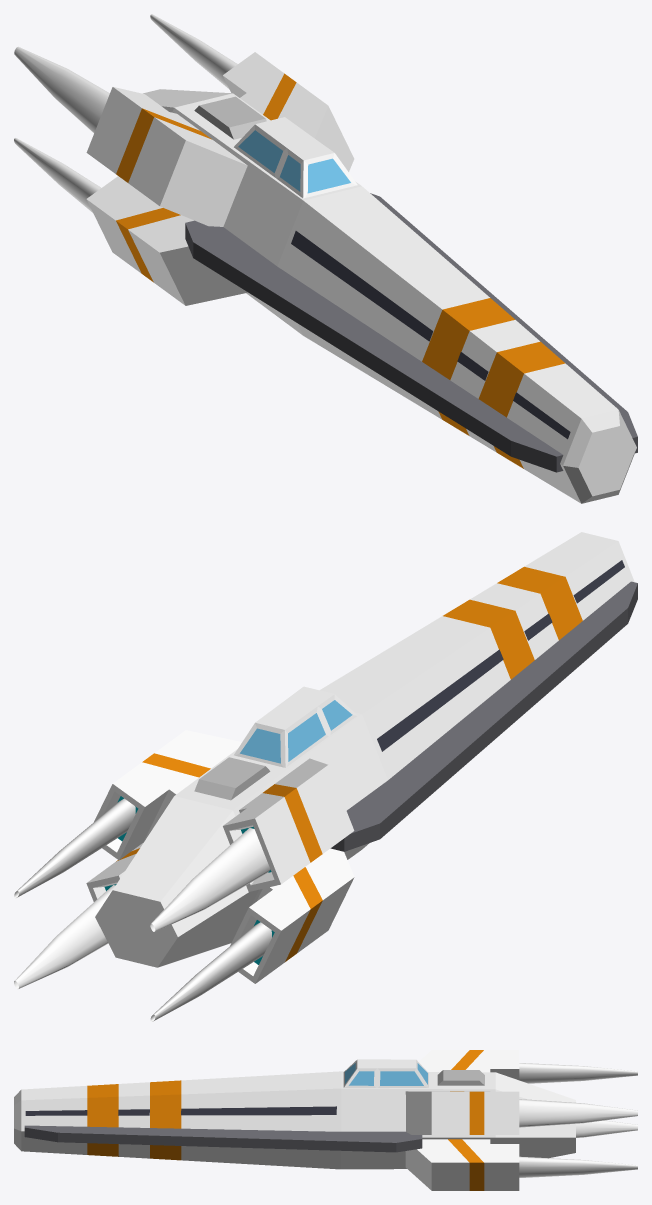
Rendered from SpaceShip.fbx.
The picture shows the model from 3 angles, top to bottom: view 1: azimuth 30°, elevation 25°; view 2: azimuth 150°, elevation 25°; view 3: azimuth 270°, elevation 25°; orthographic projection. The views are drawn at different scales.
Parts seen in each view (by area): view 1: Cylinder.001; view 2: Cylinder.001; view 3: Cylinder.001.
Part boxes in pixels (bbox=[...]): Cylinder.001: bbox=[14, 14, 637, 503]; Cylinder.001: bbox=[14, 532, 637, 1021]; Cylinder.001: bbox=[14, 1050, 637, 1190].
Size of the model in its own units: 8.24 by 7.16 by 38.19.
